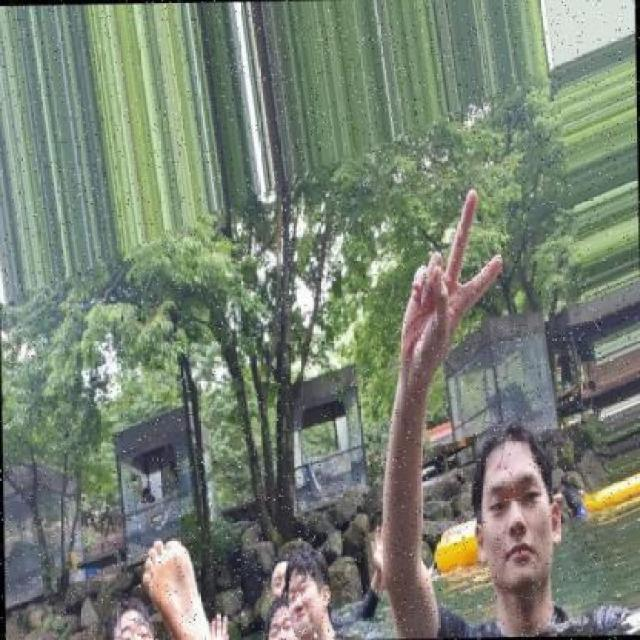drowning: (435, 424, 639, 640), (284, 558, 336, 638)
